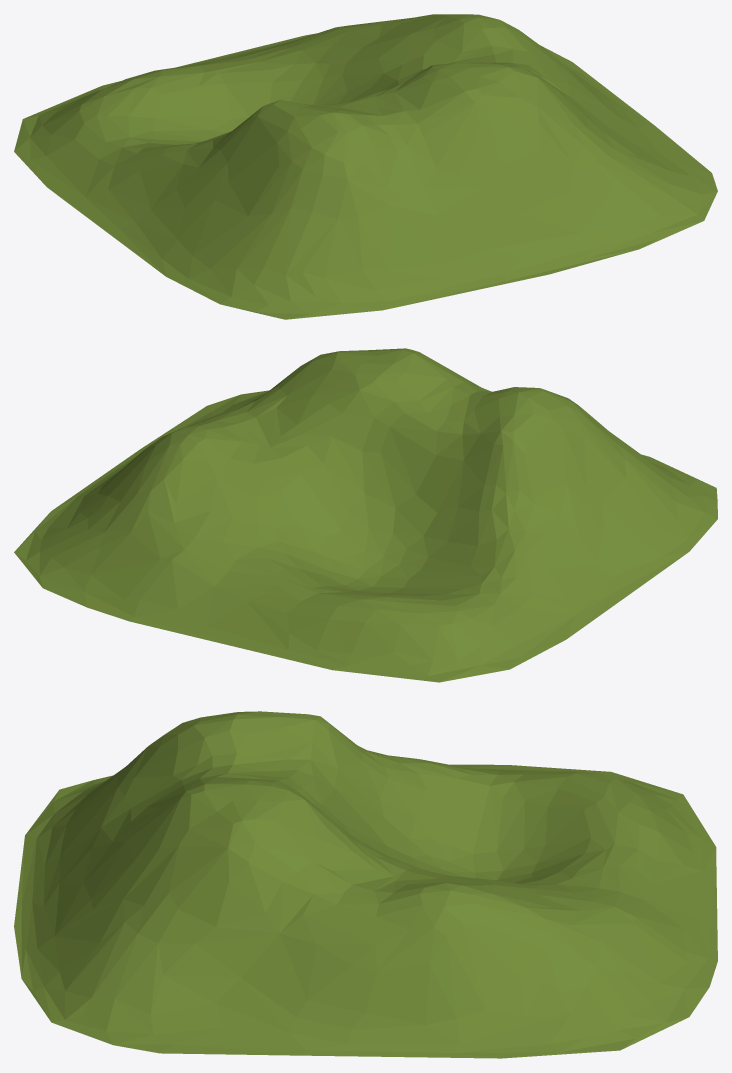
File: TerrainGrass_5.fbx
3 views of the same model, one above another, from view 1: azimuth 30°, elevation 25°; view 2: azimuth 150°, elevation 25°; view 3: azimuth 270°, elevation 25° (orthographic). The views are drawn at different scales.
Visible parts, largest first — view 1: TerrainGrass_5; view 2: TerrainGrass_5; view 3: TerrainGrass_5.
Boxes of the visible parts, <box> form: TerrainGrass_5: <box>14,14,717,319</box>; TerrainGrass_5: <box>14,348,717,682</box>; TerrainGrass_5: <box>14,711,717,1058</box>.
Bounding box in the file's own units: 1767 × 399 × 1784.
